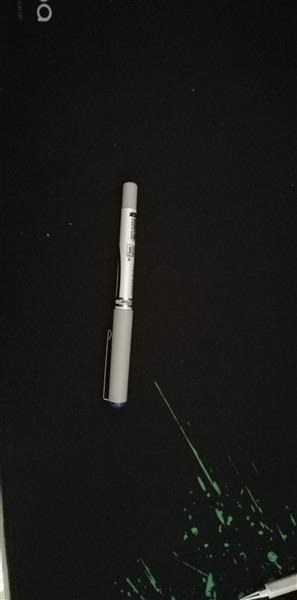pilot kalem: (95, 178, 151, 412)
